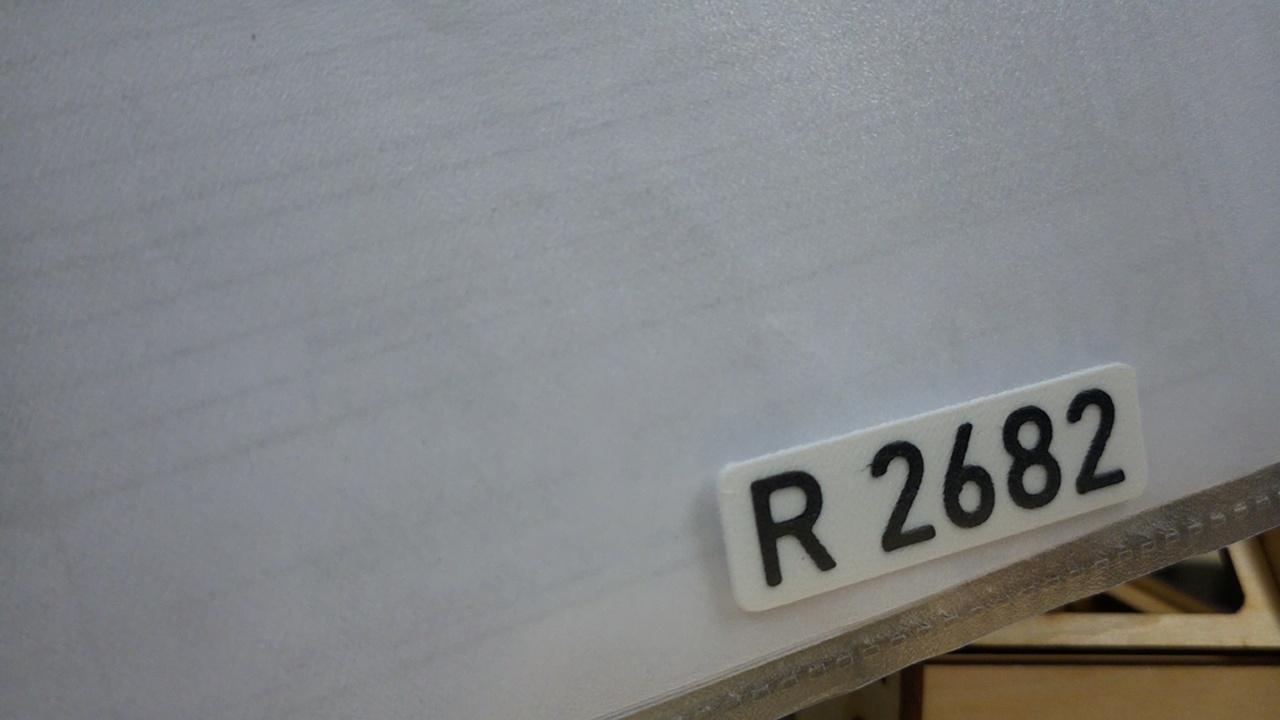license_plate: (710, 357, 1166, 615)
